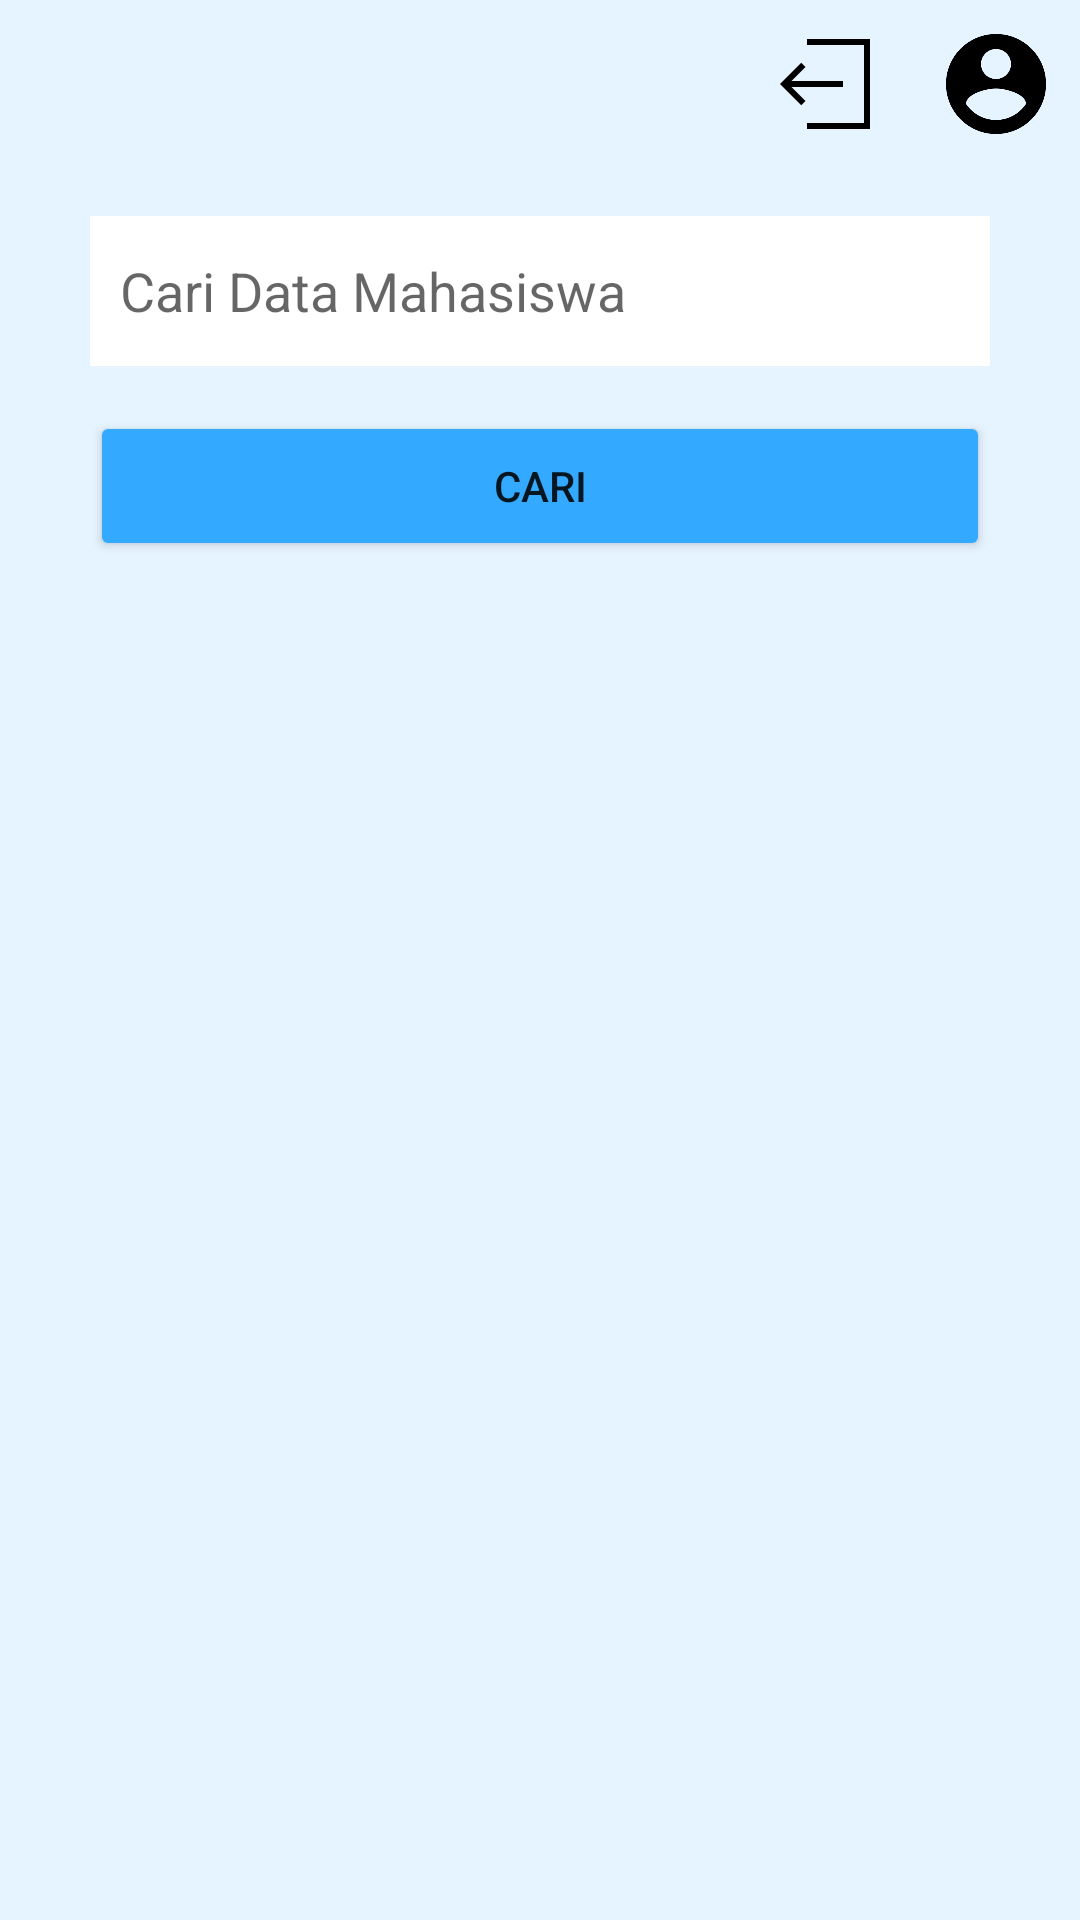

Icons on this 1080x1920 Android screen, each with the point to tap as (x=x, y=y):
account: (x=996, y=84)
